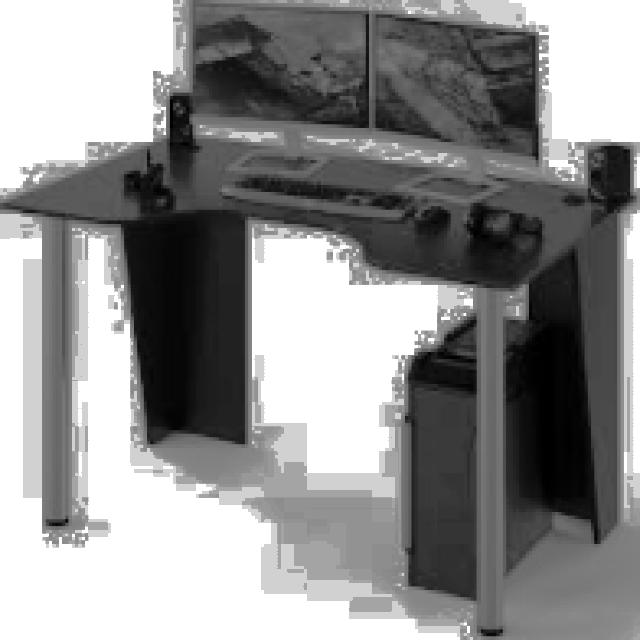table: (0, 128, 637, 633)
